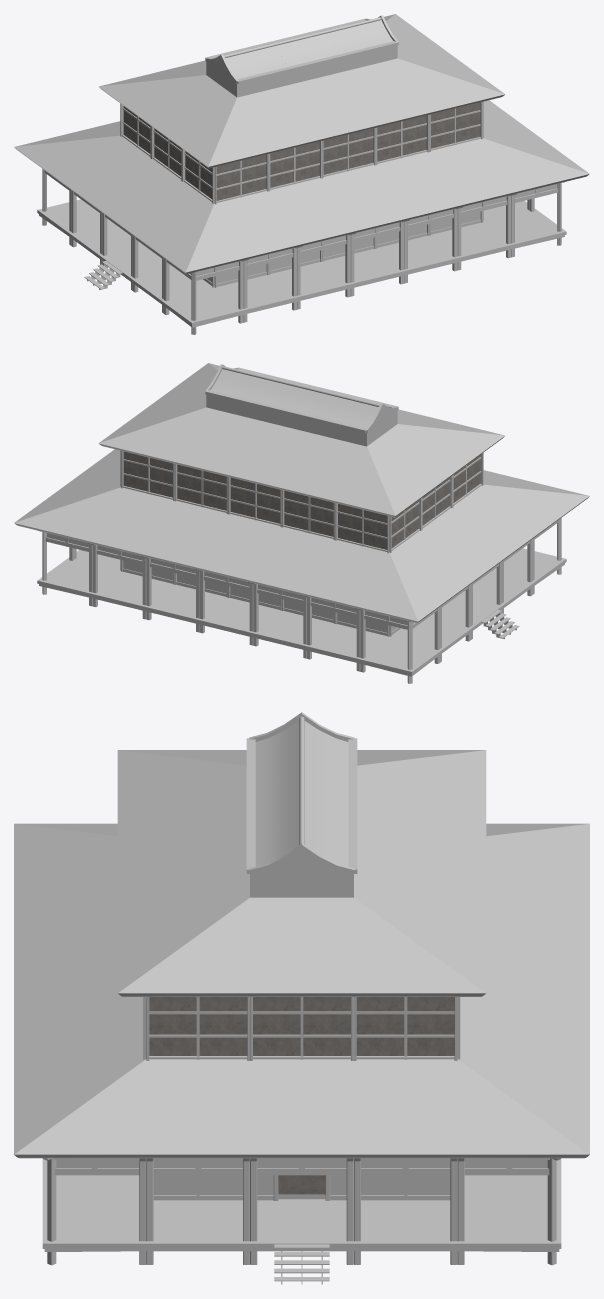
The model's file is Japanese Buildings 6.fbx.
3 views of the same model, one above another, from view 1: azimuth 30°, elevation 25°; view 2: azimuth 150°, elevation 25°; view 3: azimuth 270°, elevation 25° (orthographic). The views are drawn at different scales.
Parts seen in each view (by area): view 1: Japanese_Buildings_6; view 2: Japanese_Buildings_6; view 3: Japanese_Buildings_6.
Boxes of the visible parts, box(x1,y1,x2,y2) form: Japanese_Buildings_6: box(14, 14, 589, 334); Japanese_Buildings_6: box(14, 363, 589, 683); Japanese_Buildings_6: box(14, 712, 589, 1284).
Bounding box in the file's own units: 1564 × 713 × 1111.
